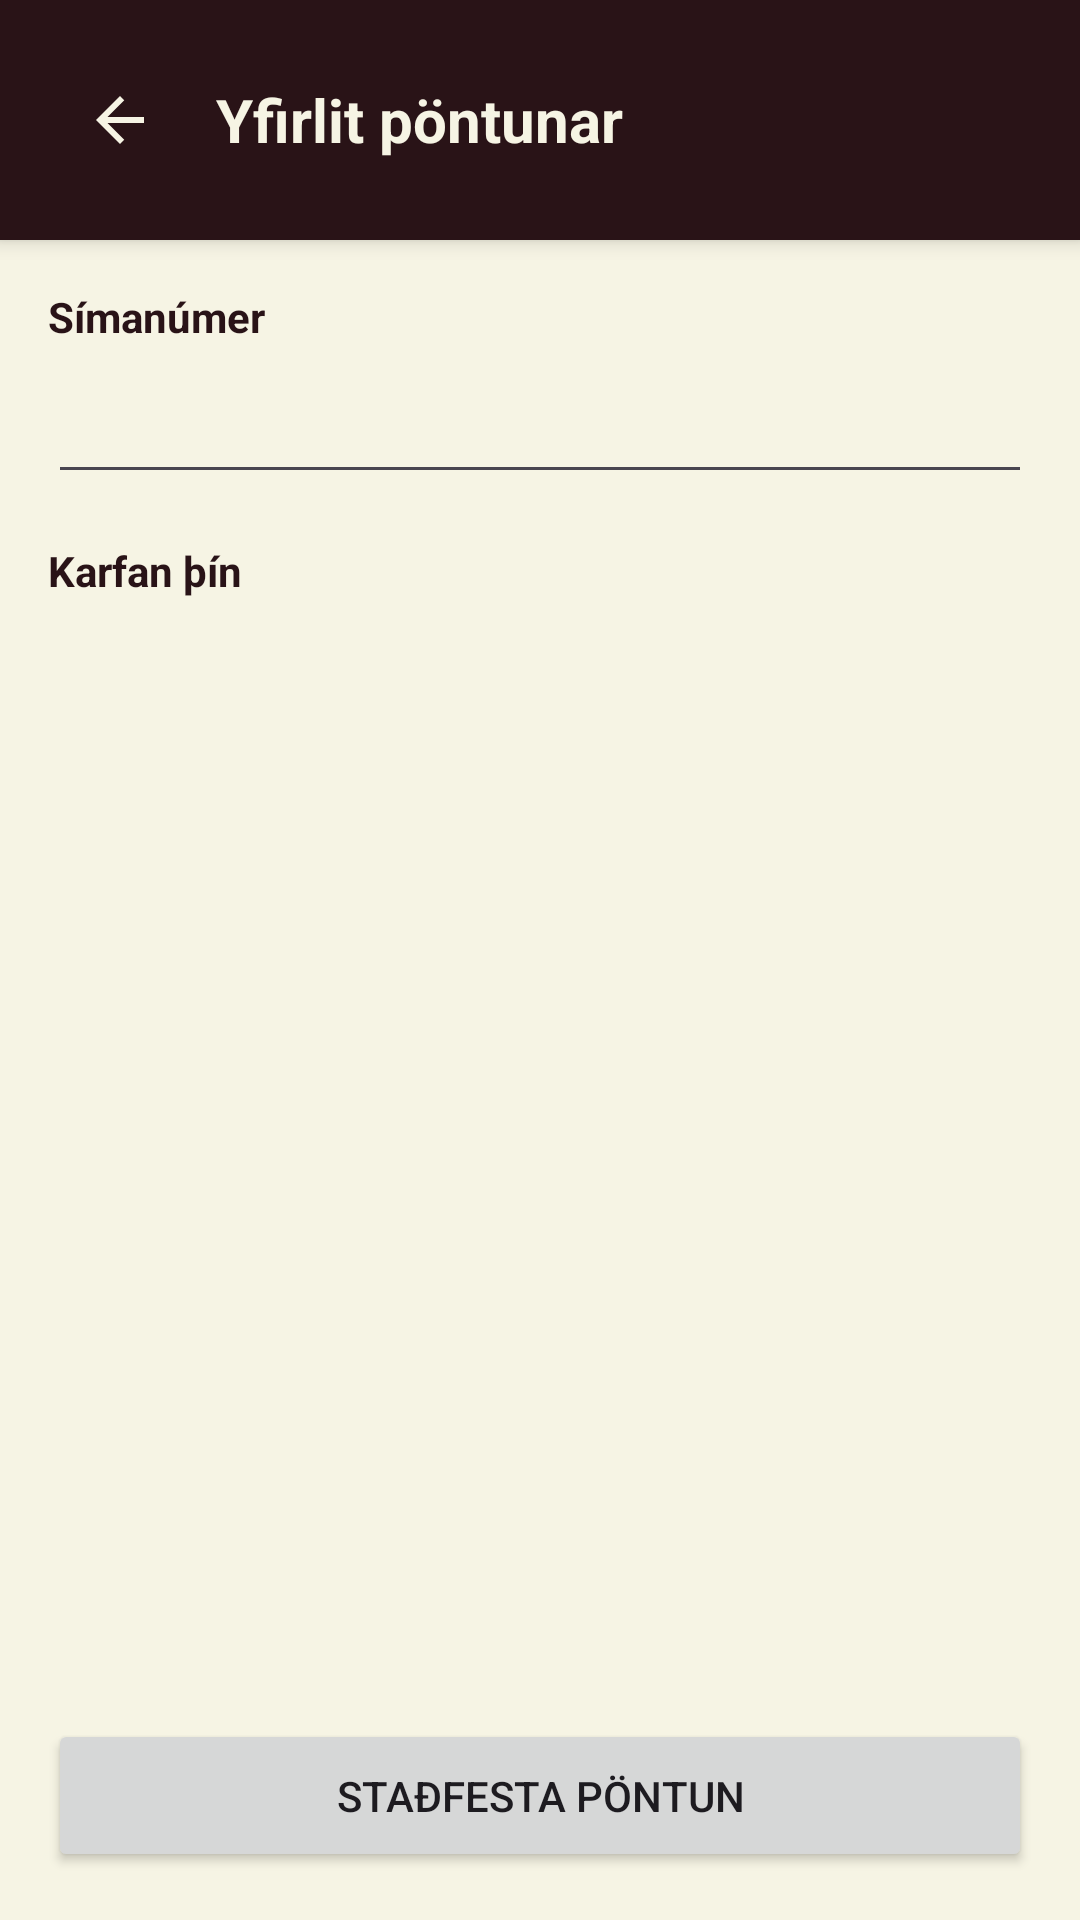

Icons on this 1080*1920 Android screen, each with its box as {"left": x1, "top": y1, "right": x2, "bottom": y2}:
Til baka: {"left": 96, "top": 96, "right": 144, "bottom": 144}
